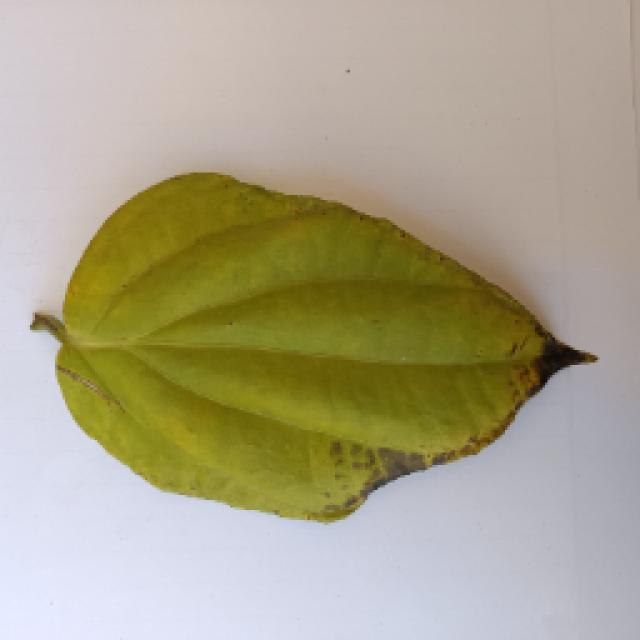slow-decline: (25, 165, 597, 520)
